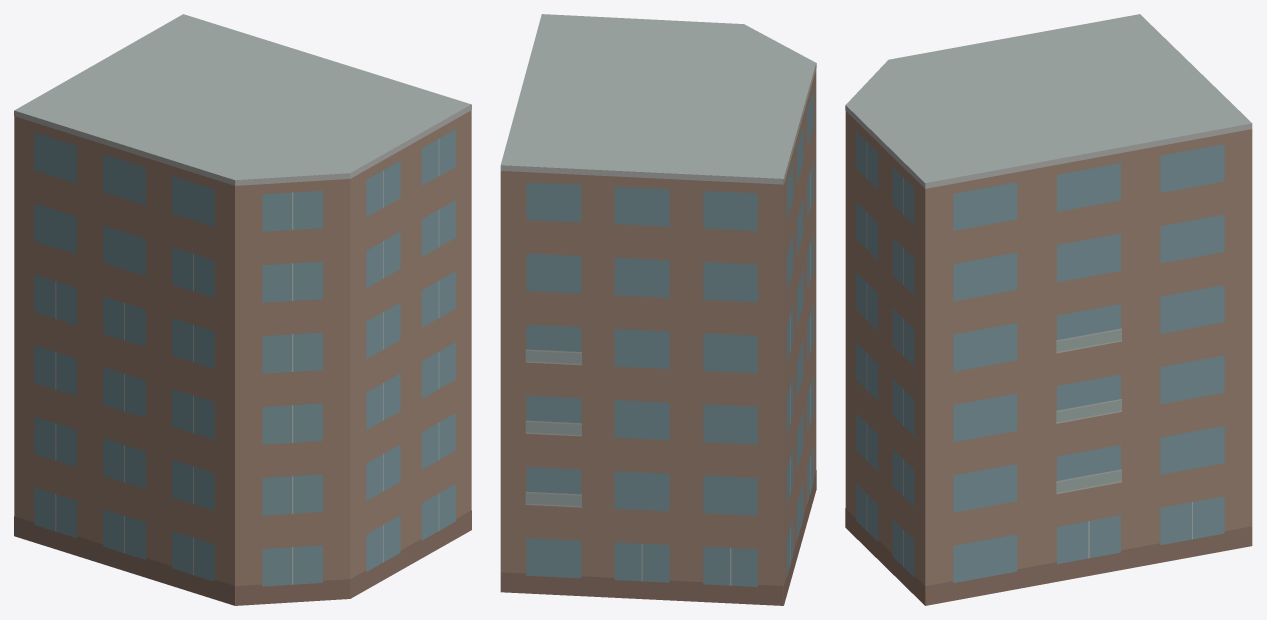
The model's file is survey-upis-32997638.glb.
The picture shows the model from 3 angles, left to right: view 1: azimuth 30°, elevation 25°; view 2: azimuth 150°, elevation 25°; view 3: azimuth 270°, elevation 25°; orthographic projection.
Parts seen in each view (by area): view 1: survey-upis-32997638.tmp; view 2: survey-upis-32997638.tmp; view 3: survey-upis-32997638.tmp.
Boxes of the visible parts, left/top/right/bottom form: survey-upis-32997638.tmp: left=14, top=14, right=471, bottom=605; survey-upis-32997638.tmp: left=500, top=14, right=816, bottom=605; survey-upis-32997638.tmp: left=845, top=14, right=1252, bottom=605.
Size of the model in its own units: 15.73 by 18.3 by 15.98.
